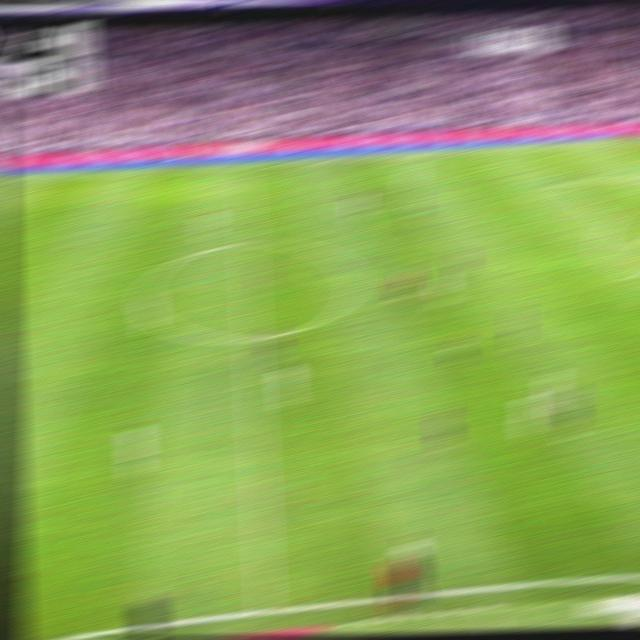bigarea_top_inner: (552, 178, 570, 187)
corner: (631, 133, 640, 141)
halfcircle_bottom: (240, 326, 264, 349)
halfcircle_top: (235, 231, 259, 253)
midline_bottom_intersection: (250, 593, 280, 622)
midline_top_intersection: (233, 160, 253, 172)
top_arc_area_intersection: (601, 217, 622, 228)
